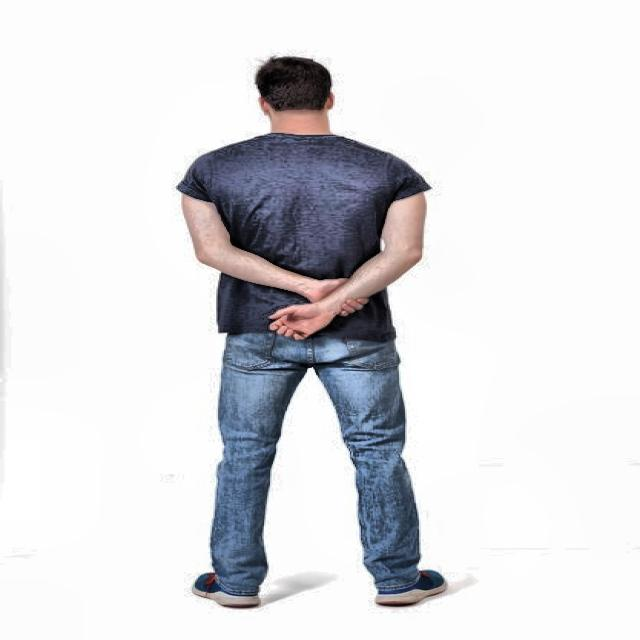Human: (139, 42, 523, 613)
